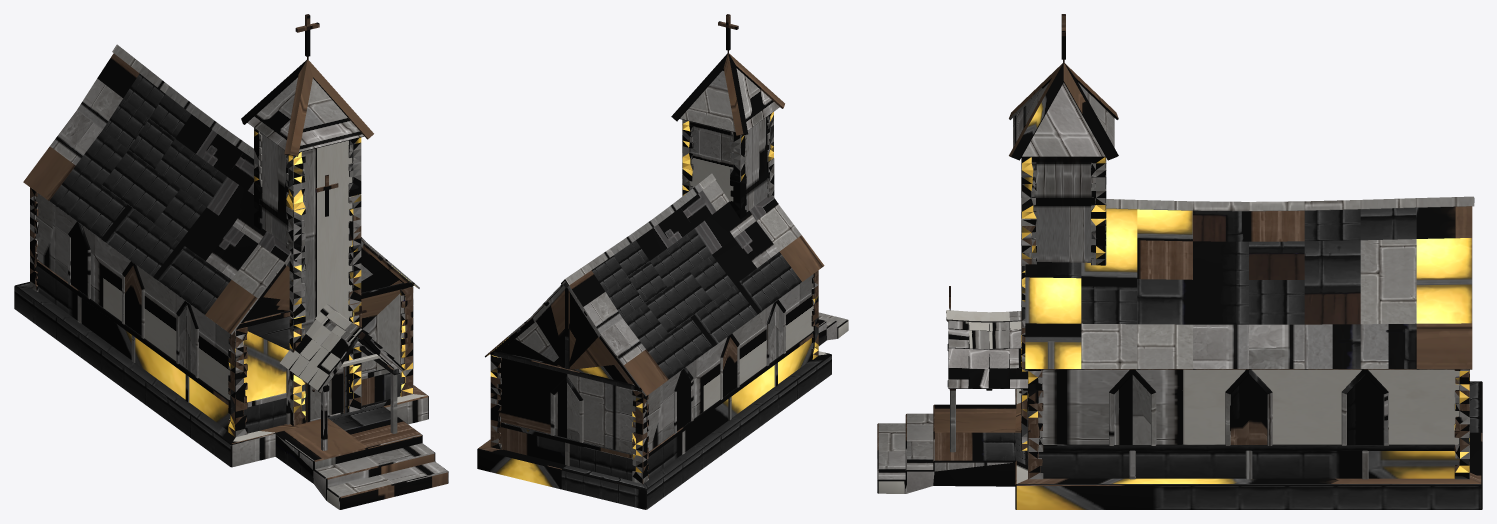
Rendered from Church.fbx.
3 views of the same model, side by side, from view 1: azimuth 30°, elevation 25°; view 2: azimuth 150°, elevation 25°; view 3: azimuth 270°, elevation 25° (orthographic). The views are drawn at different scales.
Visible parts, largest first — view 1: Church, Door; view 2: Church; view 3: Church.
Part boxes in pixels (box(x1,y1,x2,y2)): Church: box(14, 14, 448, 509); Door: box(310, 367, 343, 419); Church: box(477, 14, 848, 509); Church: box(877, 14, 1482, 509).
Size of the model in its own units: 896 by 1809 by 2203.
